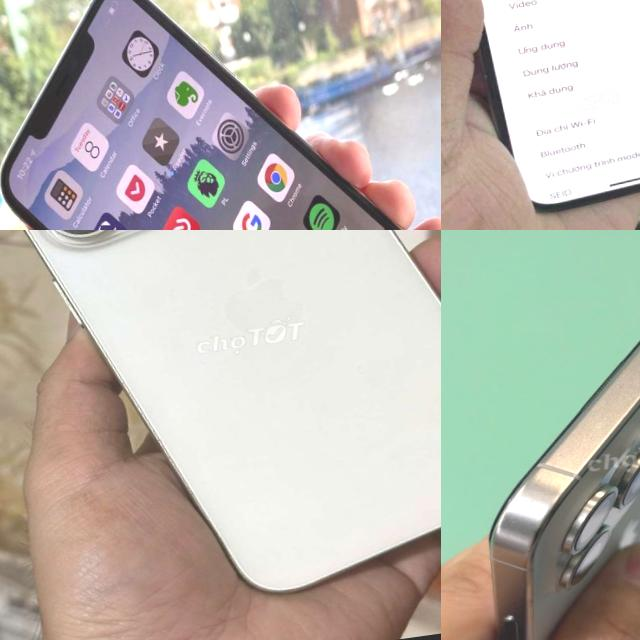gen_11: (0, 0, 406, 230)
gen_12_13: (441, 0, 640, 219)
gen_15: (0, 230, 441, 622), (441, 269, 640, 640)
